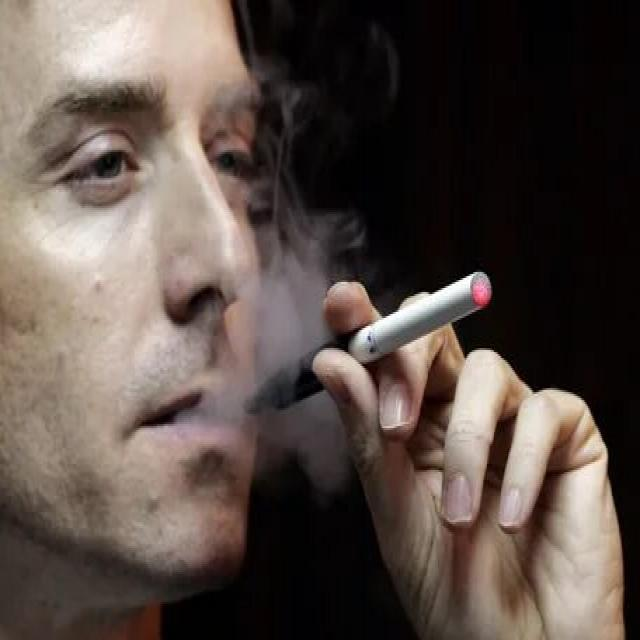smoke: (242, 270, 492, 422)
